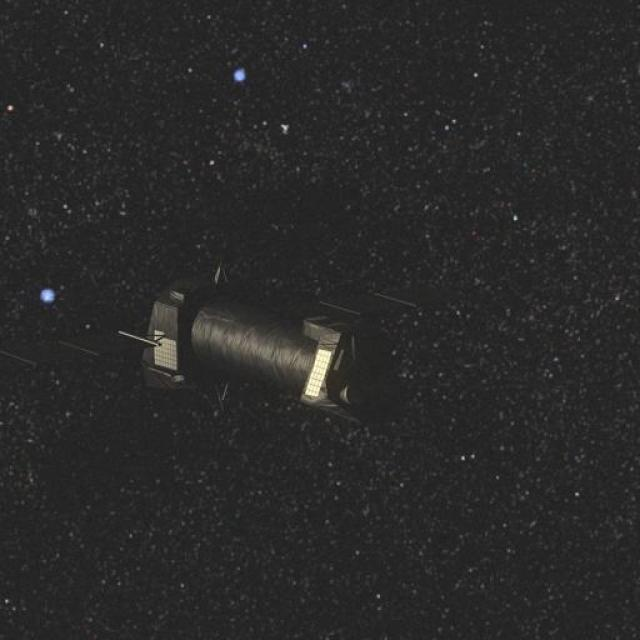xmm_newton: (74, 269, 372, 448)
